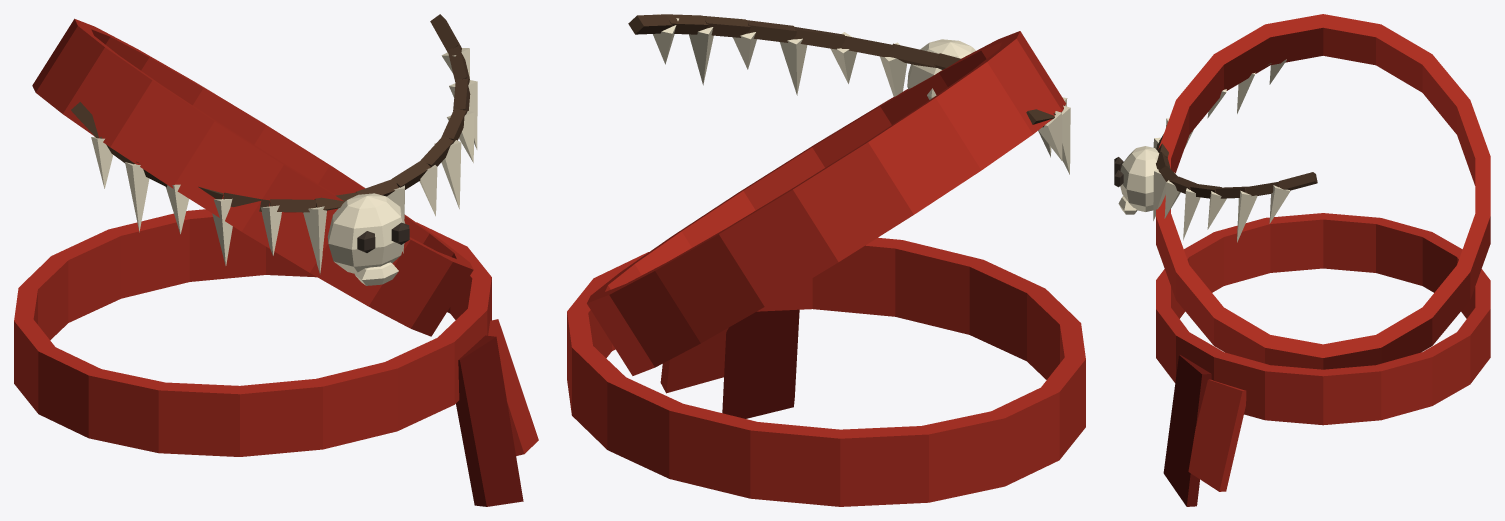
File: raider_chief_chest.glb
3 views of the same model, side by side, from view 1: azimuth 30°, elevation 25°; view 2: azimuth 150°, elevation 25°; view 3: azimuth 270°, elevation 25° (orthographic). The views are drawn at different scales.
Visible parts, largest first — view 1: raider_chief_chest; view 2: raider_chief_chest; view 3: raider_chief_chest.
Part boxes in pixels (left/top/right/bottom): raider_chief_chest: left=14, top=14, right=538, bottom=506; raider_chief_chest: left=567, top=14, right=1085, bottom=506; raider_chief_chest: left=1114, top=14, right=1490, bottom=506.
Size of the model in its own units: 1.01 by 1.05 by 0.9738.
